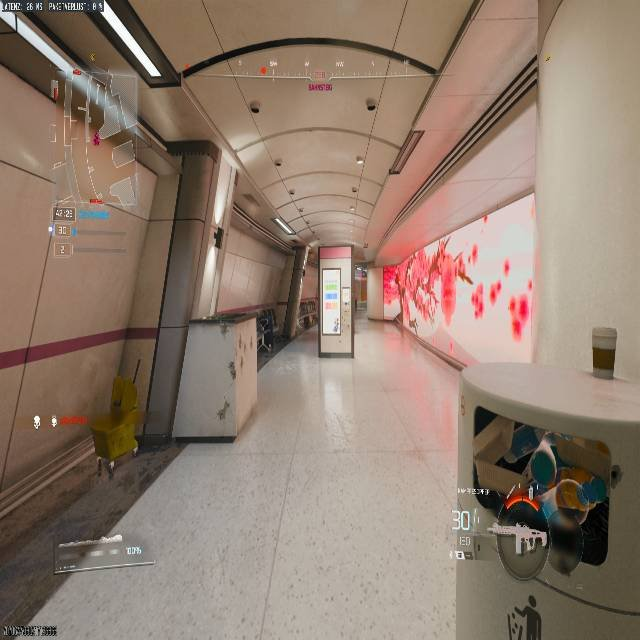head: (510, 422, 545, 459)
player: (473, 421, 619, 580), (509, 295, 528, 340)
